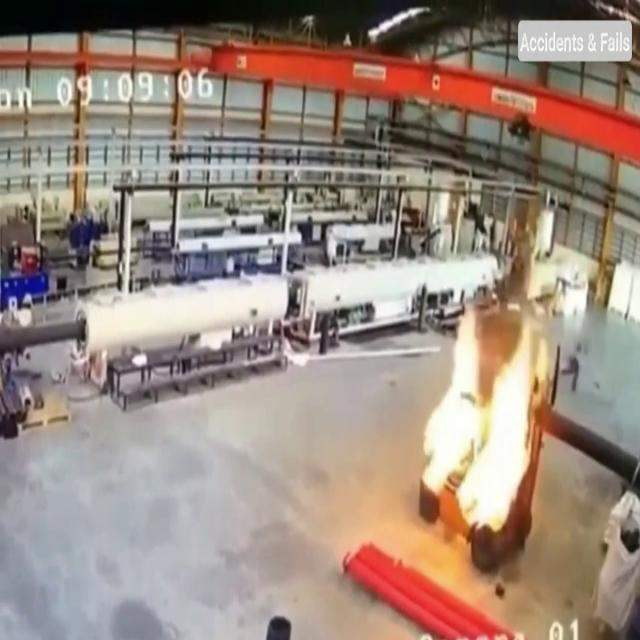Fire: (416, 204, 566, 538)
